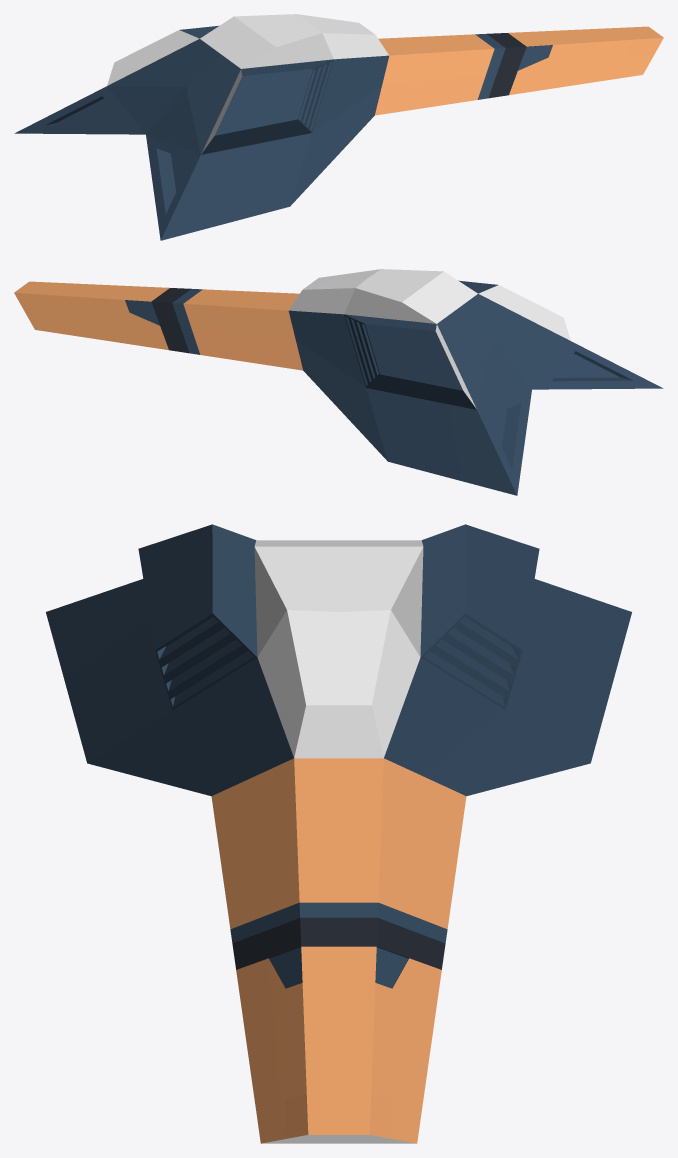
The model's file is ship_V001.fbx.
3 renders of one model, top to bottom at view 1: azimuth 30°, elevation 25°; view 2: azimuth 150°, elevation 25°; view 3: azimuth 270°, elevation 25°, orthographic. The views are drawn at different scales.
Visible parts, largest first — view 1: Ship; view 2: Ship; view 3: Ship.
Part boxes in pixels (left/top/right/bottom): Ship: left=14, top=14, right=663, bottom=240; Ship: left=14, top=269, right=663, bottom=495; Ship: left=46, top=524, right=631, bottom=1143.
Size of what is drawn, in the model's own units: 6723 by 1377 by 3000.
